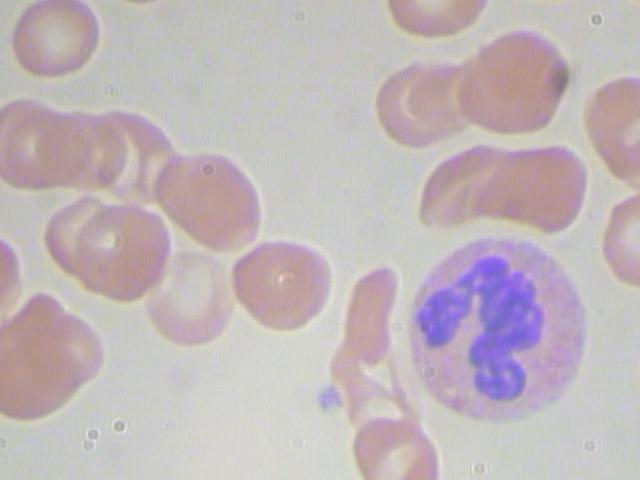RBC: (152, 146, 268, 257), (150, 144, 266, 255), (70, 197, 179, 300), (229, 238, 342, 330), (494, 137, 596, 237), (469, 28, 573, 121), (144, 250, 234, 348), (415, 140, 516, 226), (368, 59, 460, 146), (7, 1, 103, 82), (27, 305, 111, 395), (45, 105, 129, 195), (32, 191, 116, 281), (339, 262, 405, 367), (344, 412, 445, 479)
